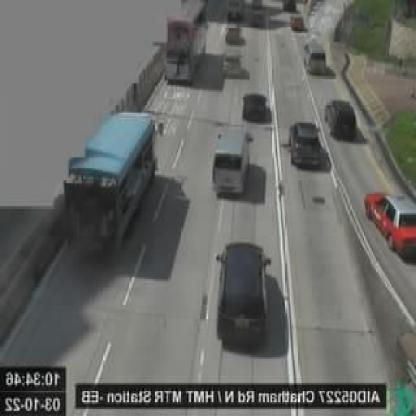Bus: (165, 0, 211, 85)
Car: (217, 239, 271, 342), (365, 191, 416, 257), (213, 128, 256, 191), (290, 120, 321, 168), (326, 98, 359, 138), (242, 93, 269, 119), (306, 40, 326, 73), (224, 48, 243, 74), (228, 24, 243, 44), (291, 12, 306, 31)
Truck: (68, 109, 165, 253)
